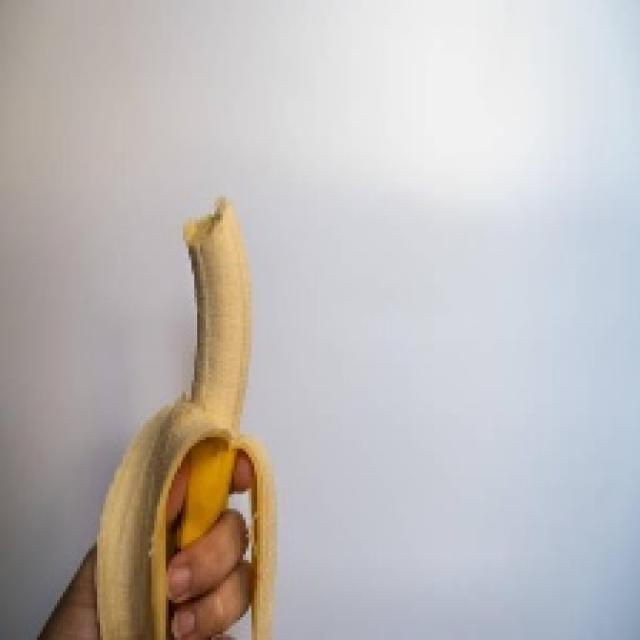Banana: (92, 194, 277, 637)
